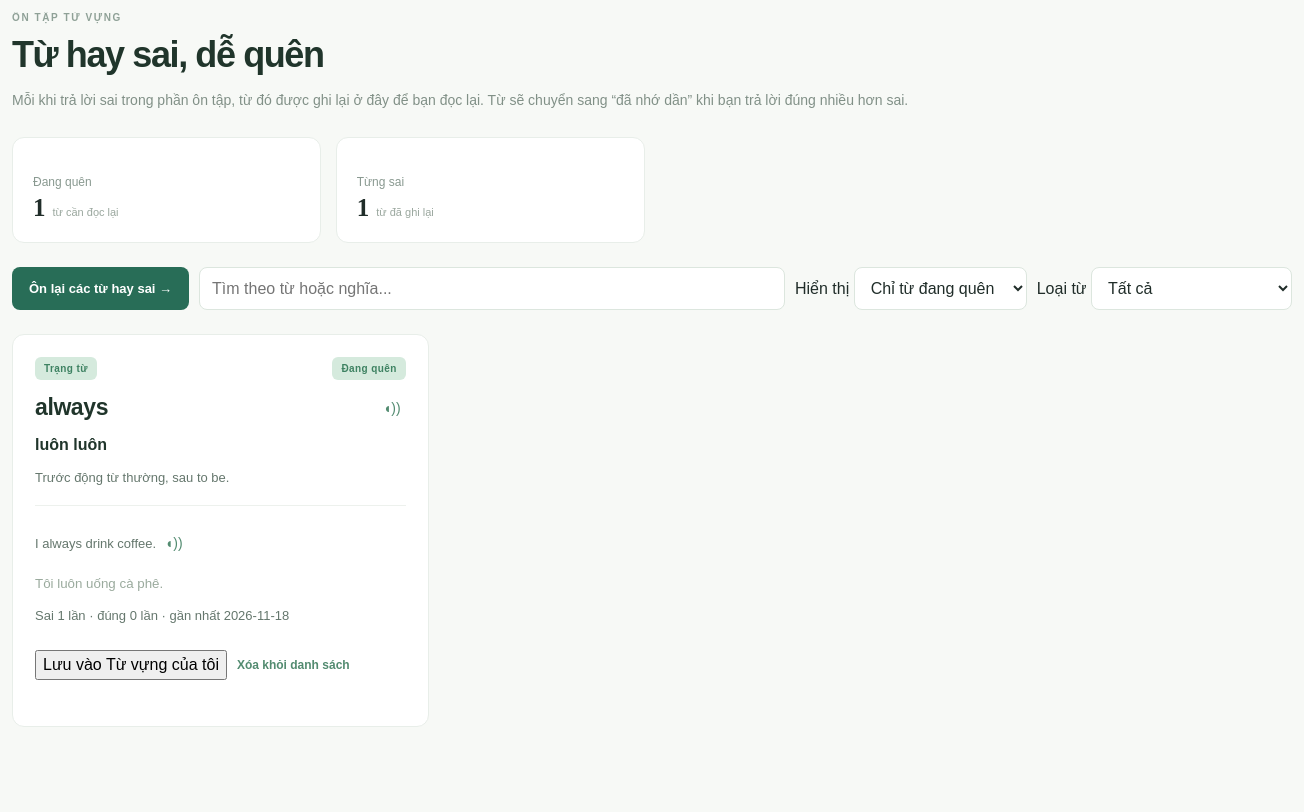
Scenario: hiển thị từ sai kèm nghĩa, ví dụ, số lần sai và cho xóa khỏi danh sách
Expected: the heading "always" is shown, [35, 394, 108, 421]
Expected: the heading "luôn luôn" is shown, [35, 436, 107, 453]
Click the button "Xóa khỏi danh sách" at (293, 665), box [237, 650, 350, 680]
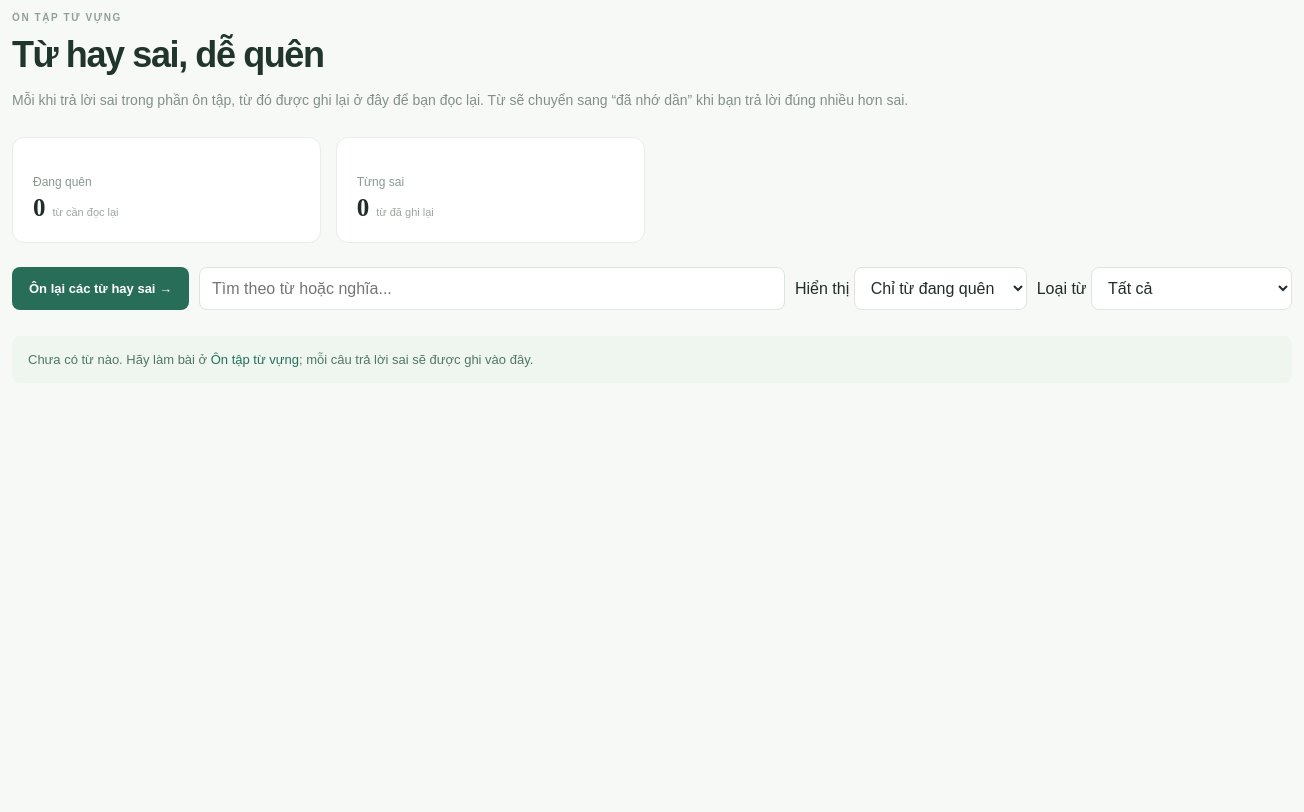
Result: the text "Chưa có từ nào" is shown at [28, 352, 211, 367]
